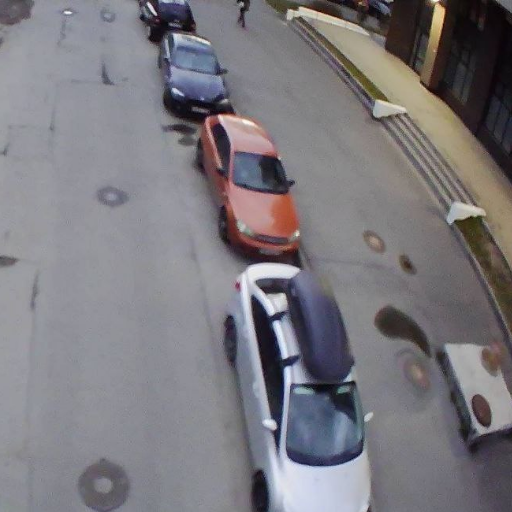Car: (222, 262, 372, 511), (196, 114, 300, 259), (157, 33, 228, 117), (137, 3, 197, 41)
